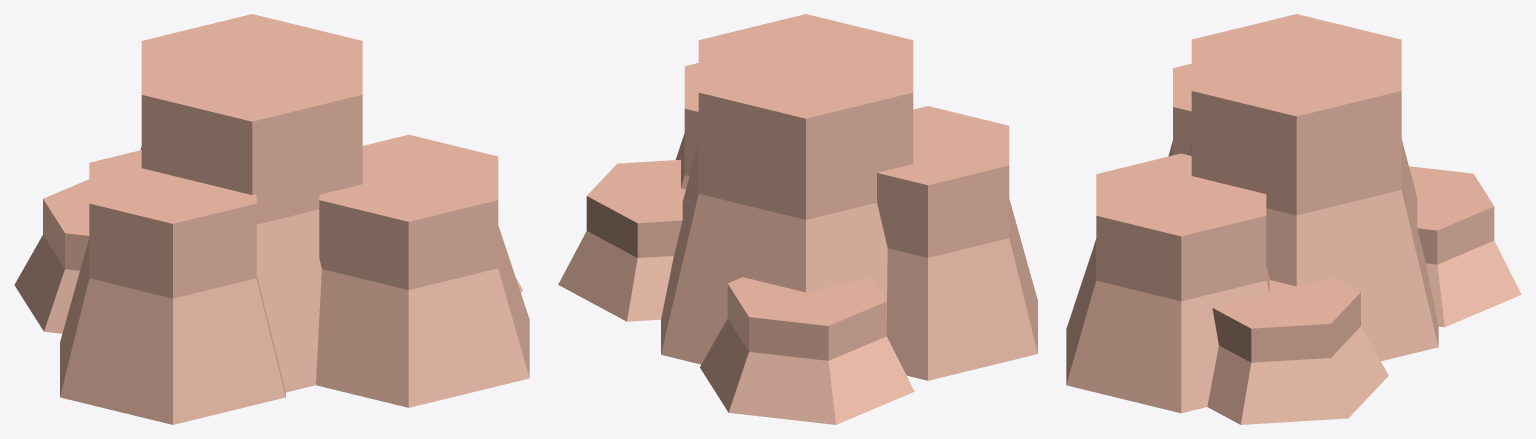
File: rock_largeA.glb
3 views of the same model, side by side, from view 1: azimuth 30°, elevation 25°; view 2: azimuth 150°, elevation 25°; view 3: azimuth 270°, elevation 25° (orthographic). The views are drawn at different scales.
Parts seen in each view (by area): view 1: rock_largeA; view 2: rock_largeA; view 3: rock_largeA.
Boxes of the visible parts, x1,y1,x2,y2 form: rock_largeA: (14,14,529,424); rock_largeA: (558,14,1037,424); rock_largeA: (1066,14,1521,424).
Bounding box in the file's own units: 0.9193 × 0.5 × 0.8339.
1 material, 1 textured.
